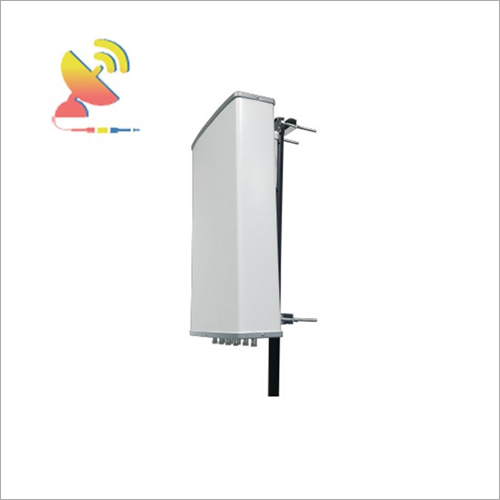sa: (170, 79, 301, 382)
